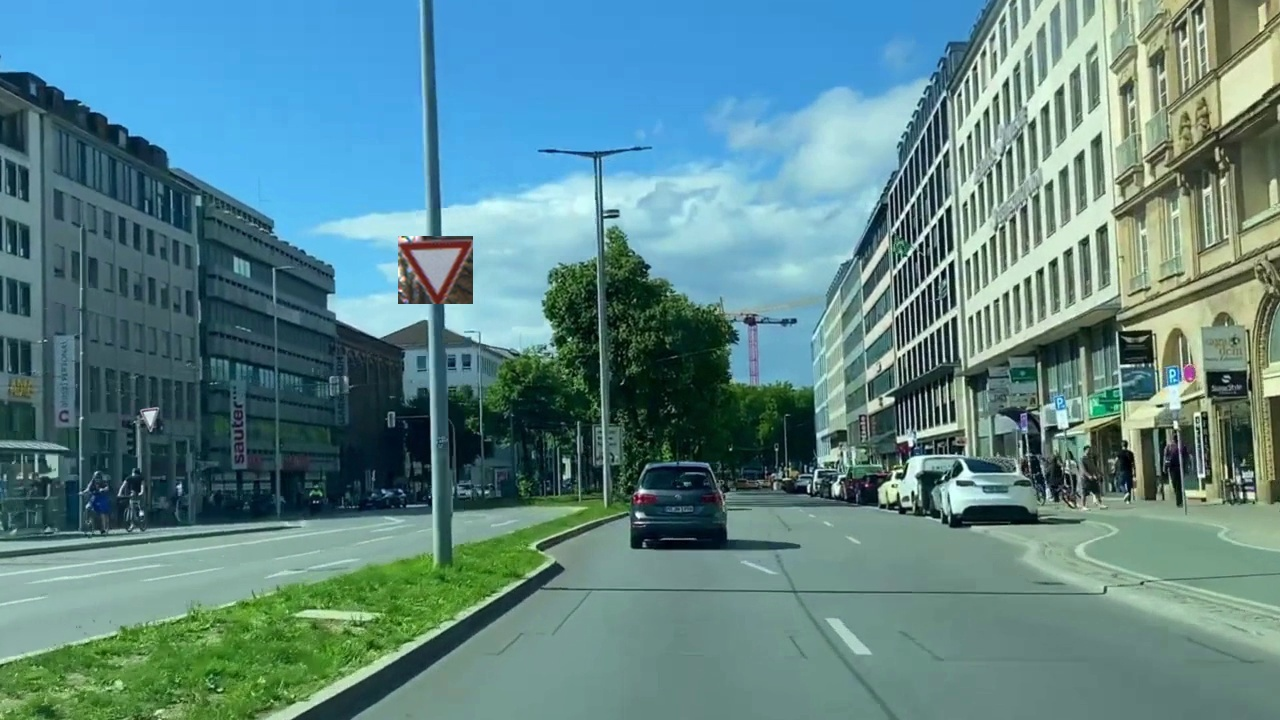Yield: (398, 236, 473, 304)
